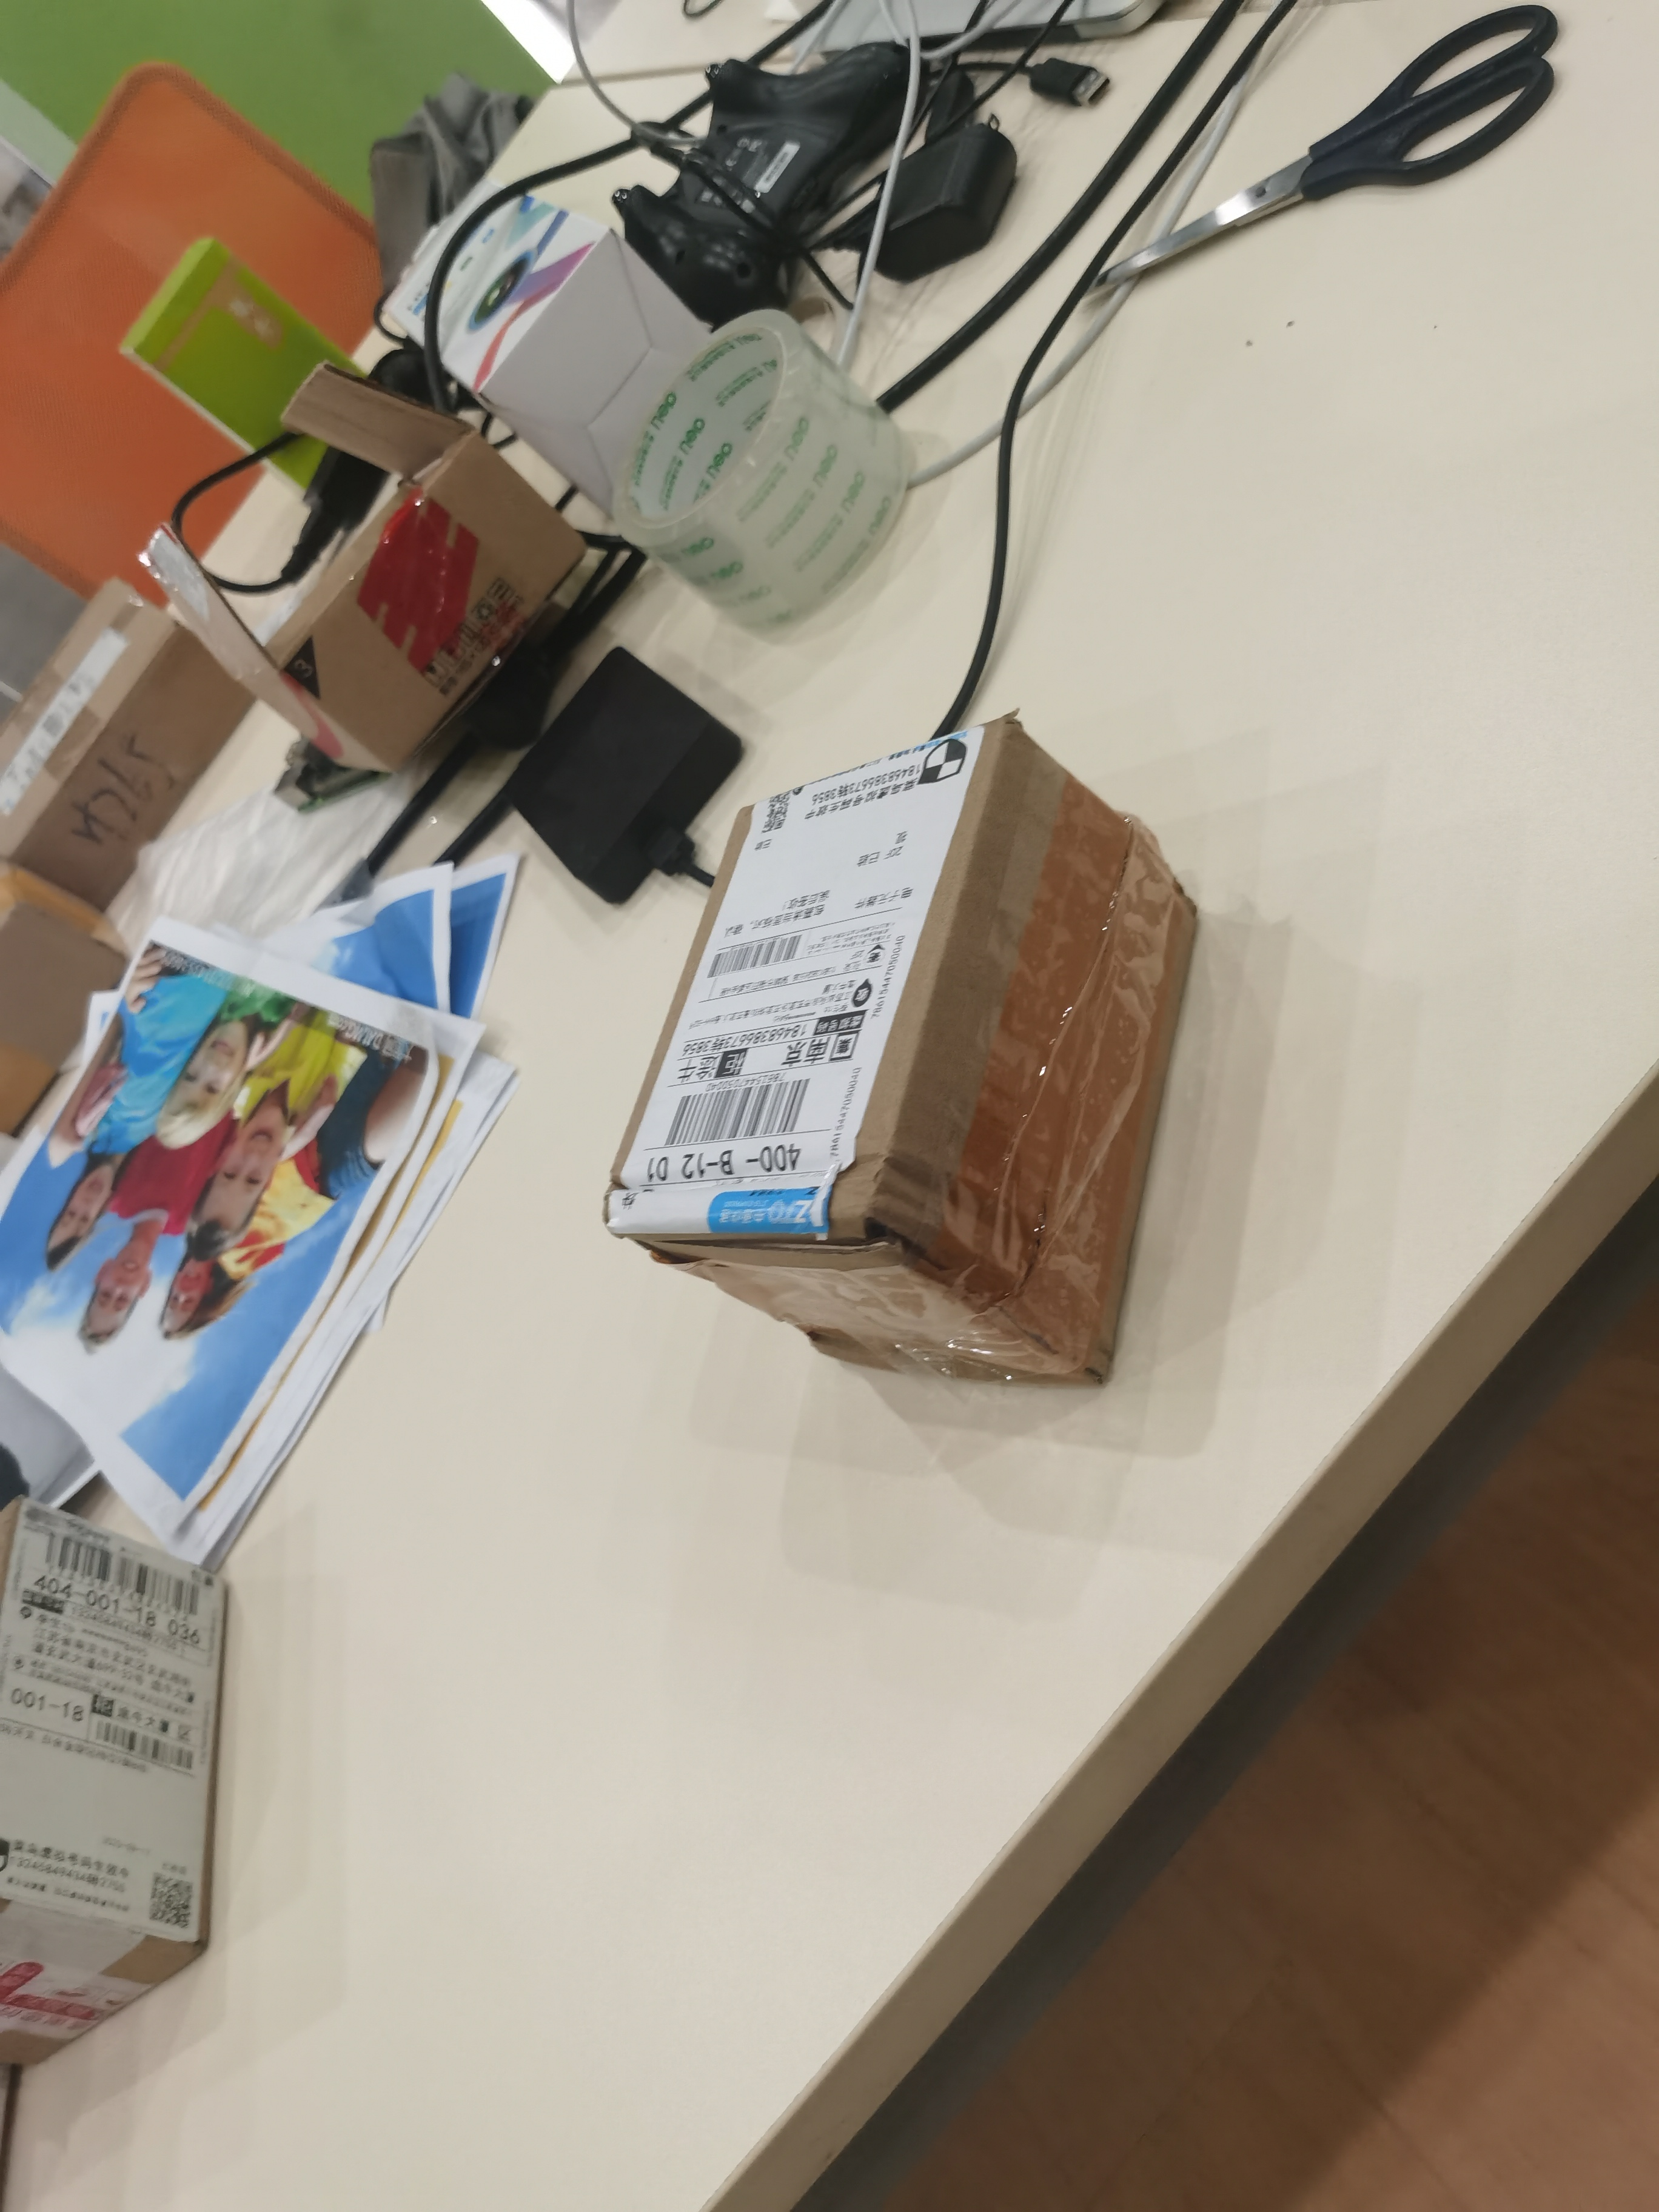box: (598, 721, 1206, 1428)
